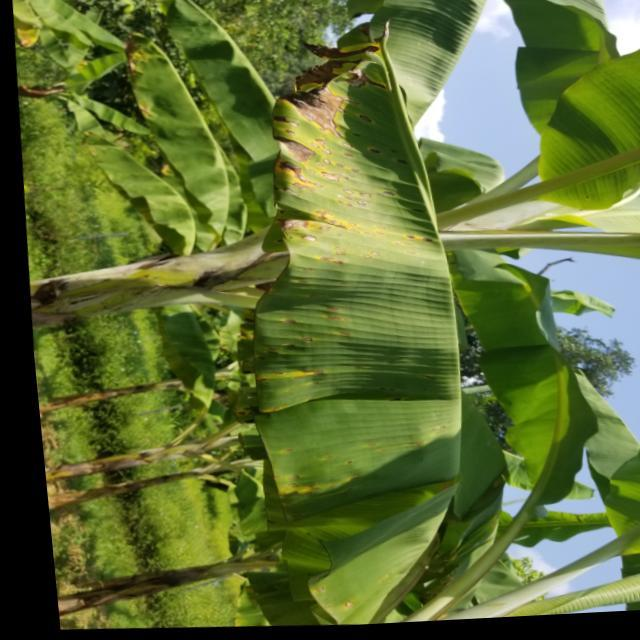Early_rust: (175, 0, 457, 333)
